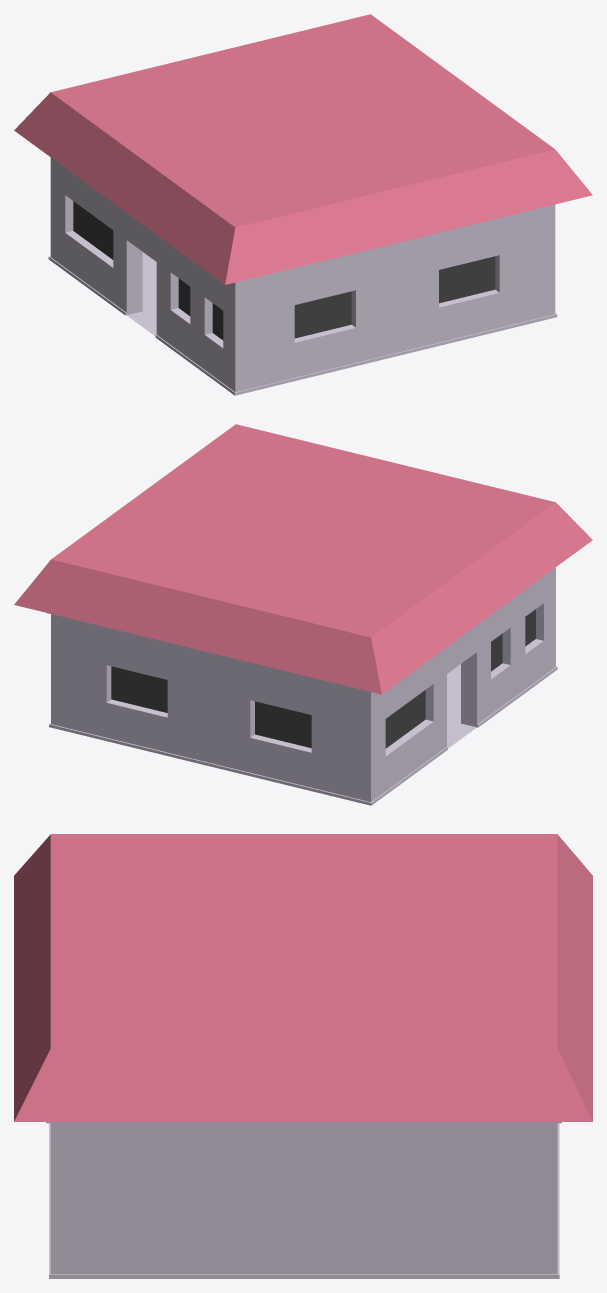
The model's file is small_house.fbx.
The picture shows the model from 3 angles, top to bottom: view 1: azimuth 30°, elevation 25°; view 2: azimuth 150°, elevation 25°; view 3: azimuth 270°, elevation 25°; orthographic projection. The views are drawn at different scales.
Visible parts, largest first — view 1: main_houseSmall; view 2: main_houseSmall; view 3: main_houseSmall.
Part boxes in pixels (x1=…): main_houseSmall: x1=14, y1=14, x2=592, y2=395; main_houseSmall: x1=14, y1=424, x2=592, y2=805; main_houseSmall: x1=14, y1=834, x2=592, y2=1278.
Size of the model in its own units: 9.19 by 4 by 9.14.
